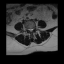CCS_stenosis: (30, 27, 31, 33)
LFS_normal: (32, 26, 34, 31)
LLS_normal: (31, 27, 33, 32)
RFS_normal: (27, 27, 28, 31)
RLS_normal: (28, 27, 30, 32)
